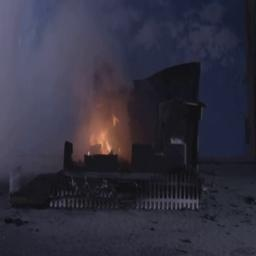fire: (74, 88, 127, 164)
smoke: (1, 1, 115, 106)
